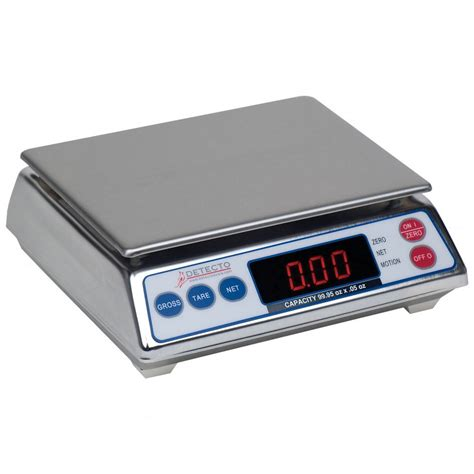Industrial Scale: (5, 93, 474, 378)
